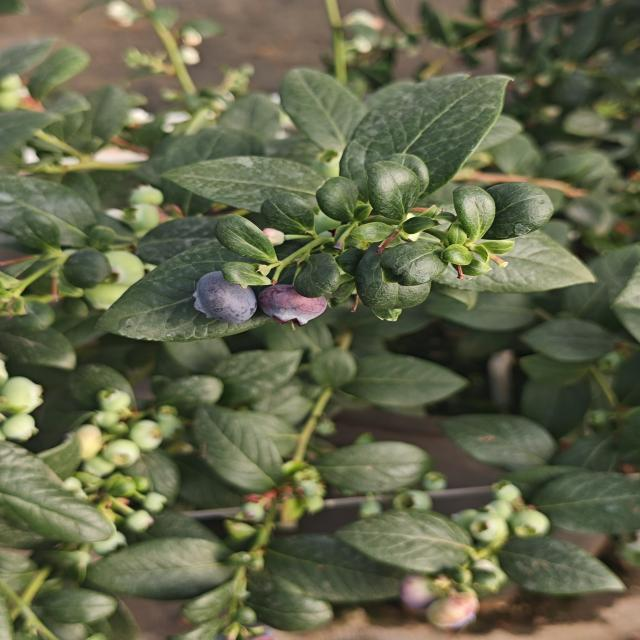ripe: (190, 269, 259, 326), (256, 282, 330, 330)
